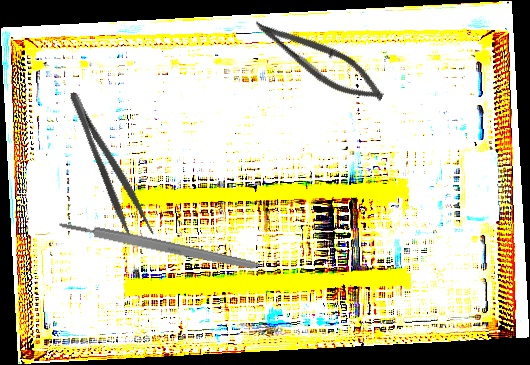Dressing Forceps: (65, 84, 156, 246)
Micro Scissor: (244, 10, 393, 112)
Scalpel Handle: (57, 218, 260, 272)
